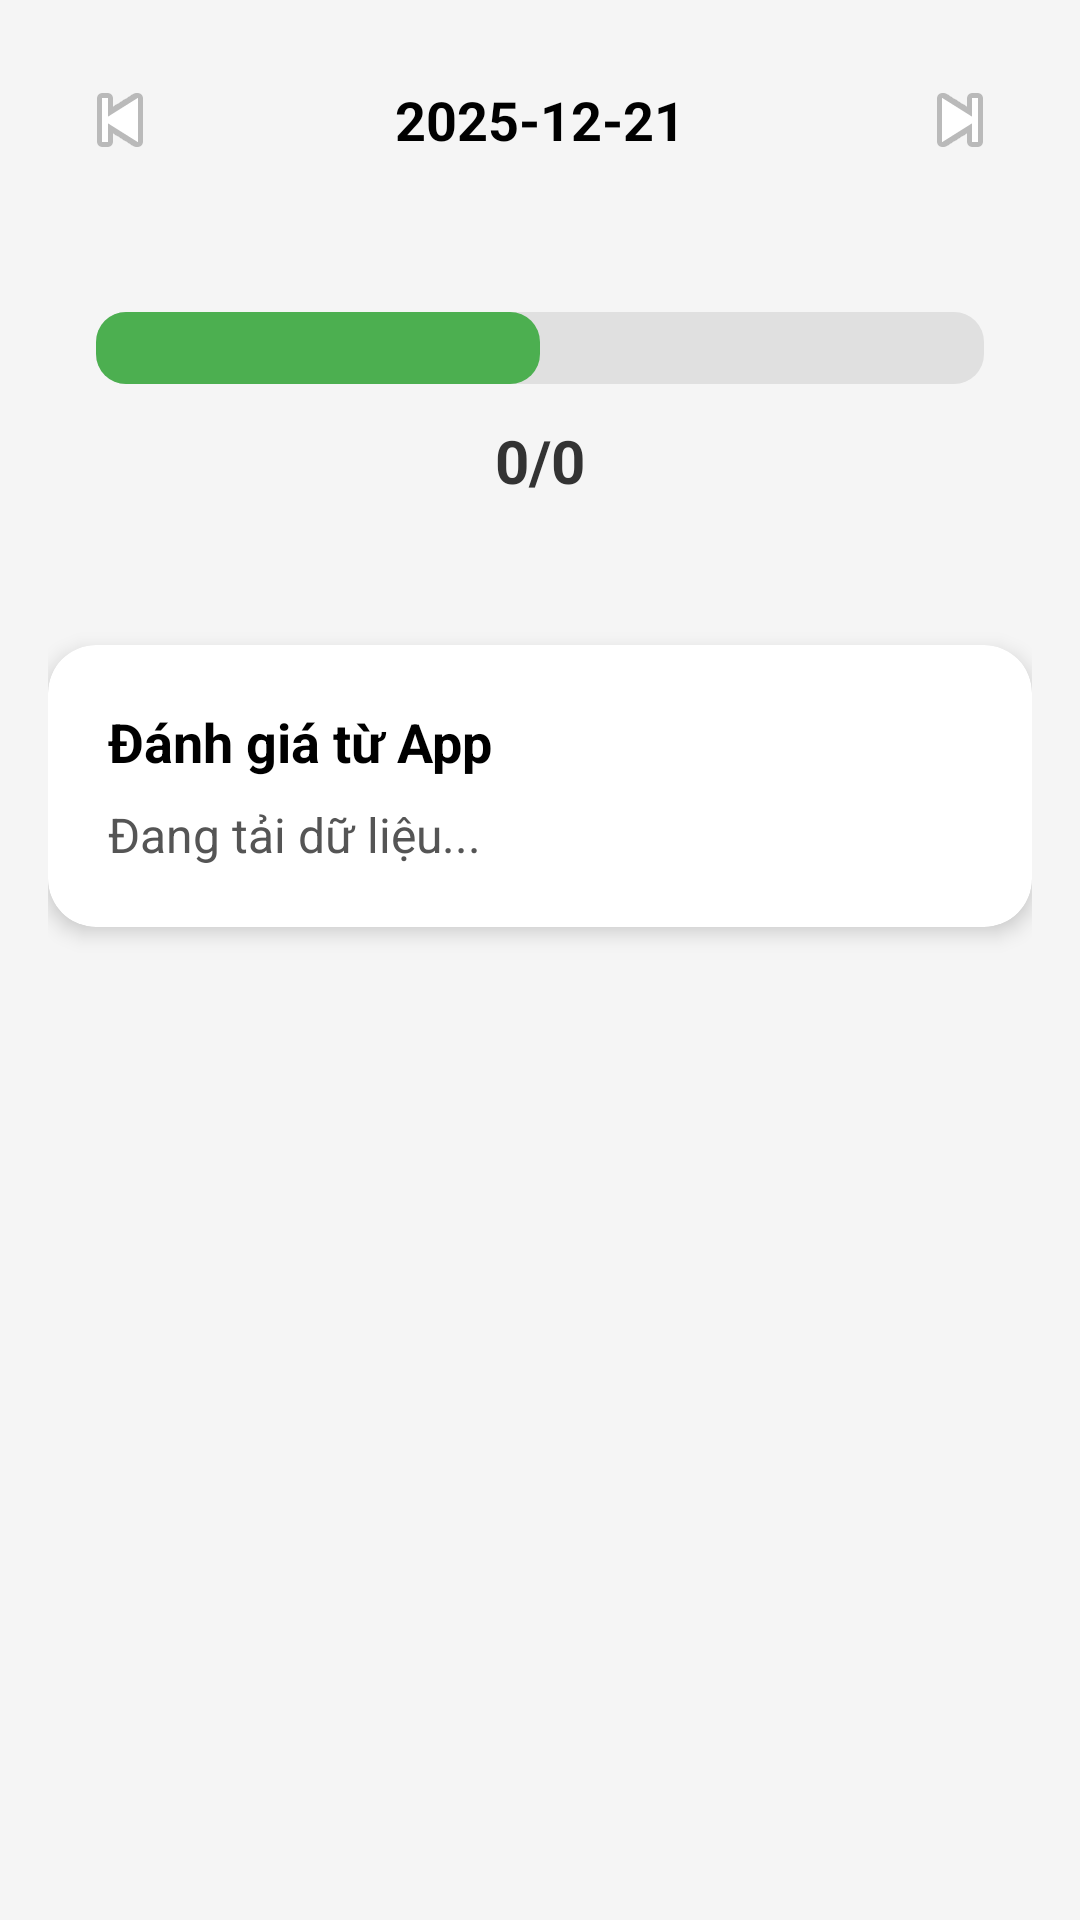

Icon bounding boxes for this 1080 x 1920 phone screenshot, format detection(x1, y1, x2, y2):
Ngày sau: detection(937, 93, 983, 147)
Ngày trước: detection(97, 93, 143, 147)
